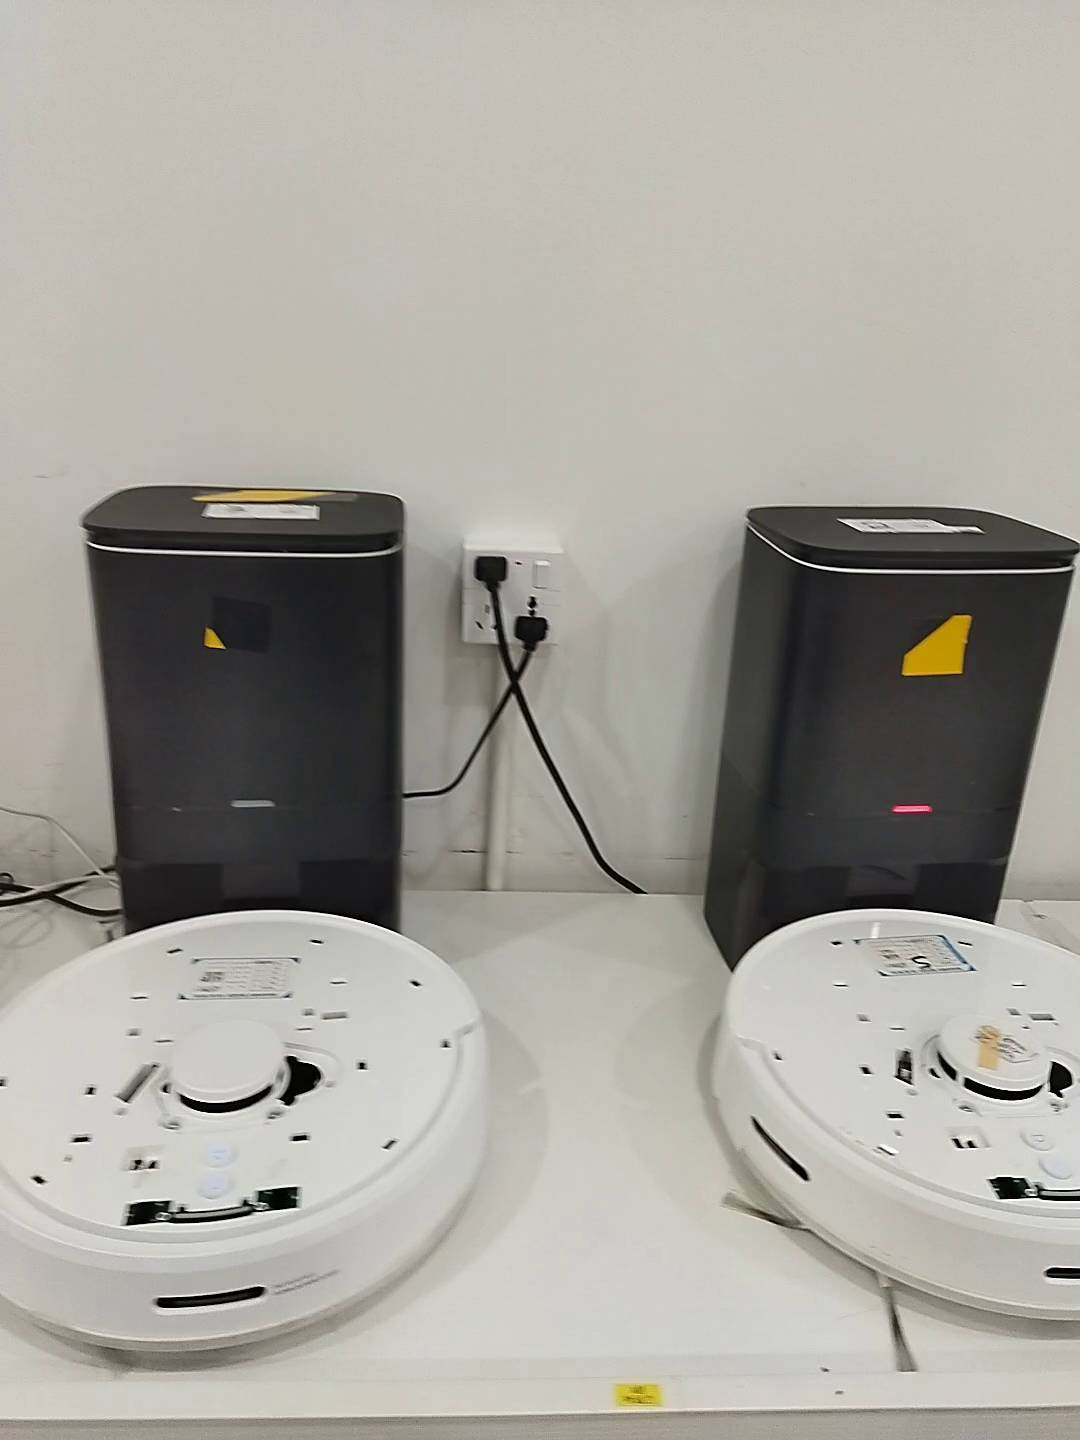dust collecting barrel: (701, 505, 1080, 974), (78, 482, 405, 951)
